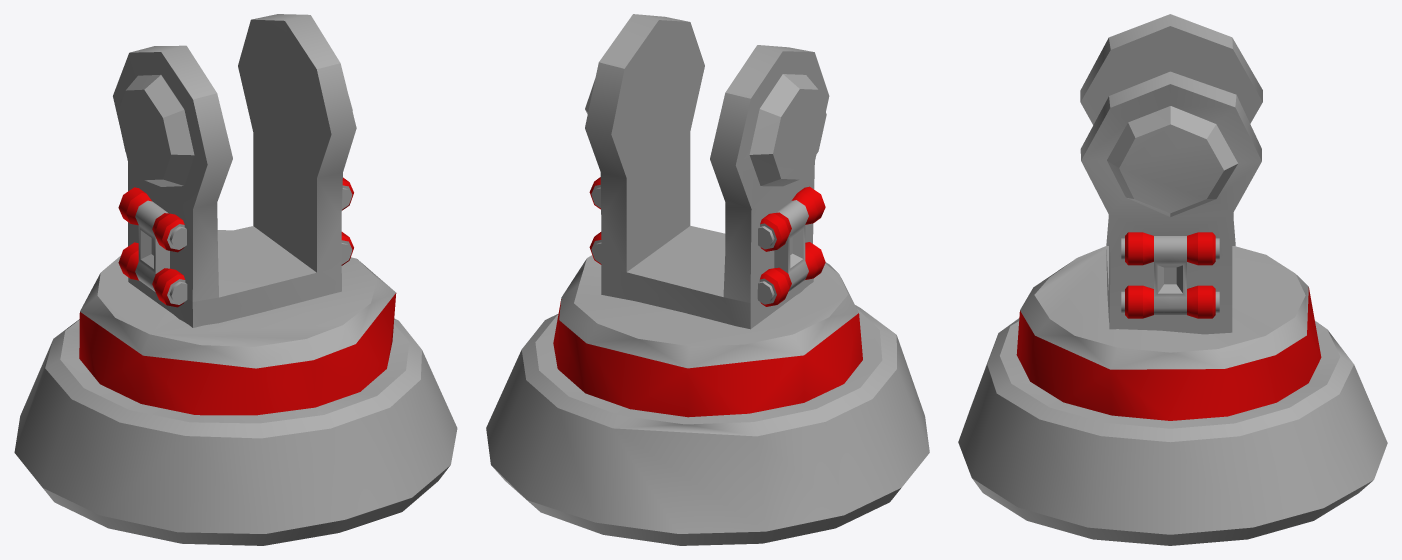
File: Enemy_TurretSingle_Body.fbx
3 views of the same model, side by side, from view 1: azimuth 30°, elevation 25°; view 2: azimuth 150°, elevation 25°; view 3: azimuth 270°, elevation 25° (orthographic). The views are drawn at different scales.
Parts seen in each view (by area): view 1: Enemy_Turret_Single_Body; view 2: Enemy_Turret_Single_Body; view 3: Enemy_Turret_Single_Body.
Boxes of the visible parts, <box> form: Enemy_Turret_Single_Body: <box>14,14,457,545</box>; Enemy_Turret_Single_Body: <box>486,14,929,545</box>; Enemy_Turret_Single_Body: <box>958,14,1387,545</box>.
Size of the model in its own units: 2.07 by 2.17 by 2.05.
